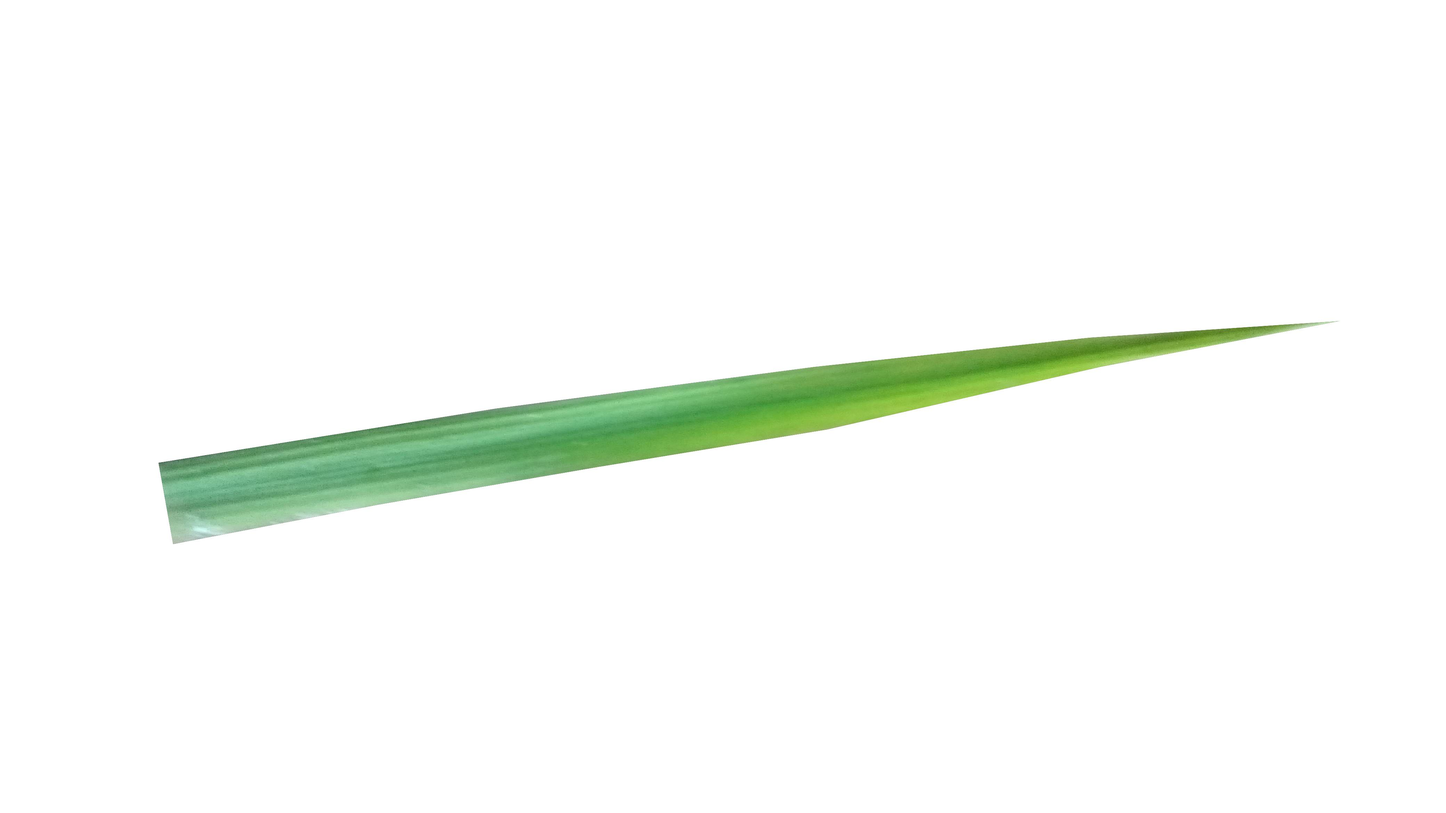Tungro: (652, 340, 1222, 460)
